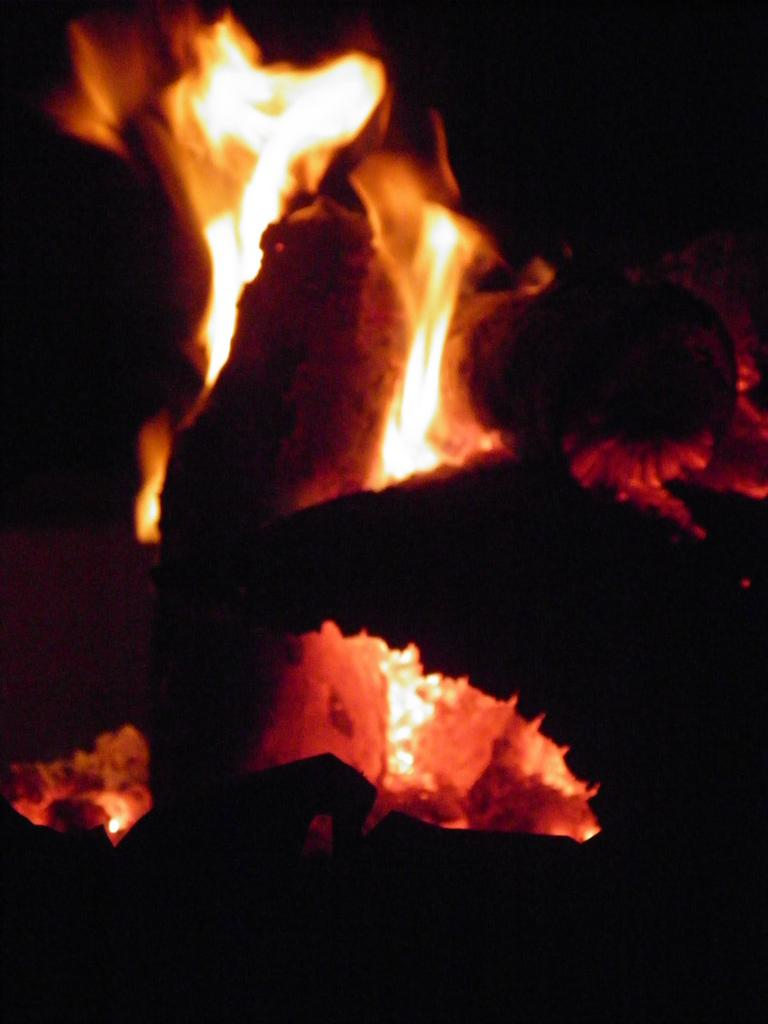fire: (185, 52, 378, 168), (390, 202, 465, 472), (358, 628, 450, 798)
